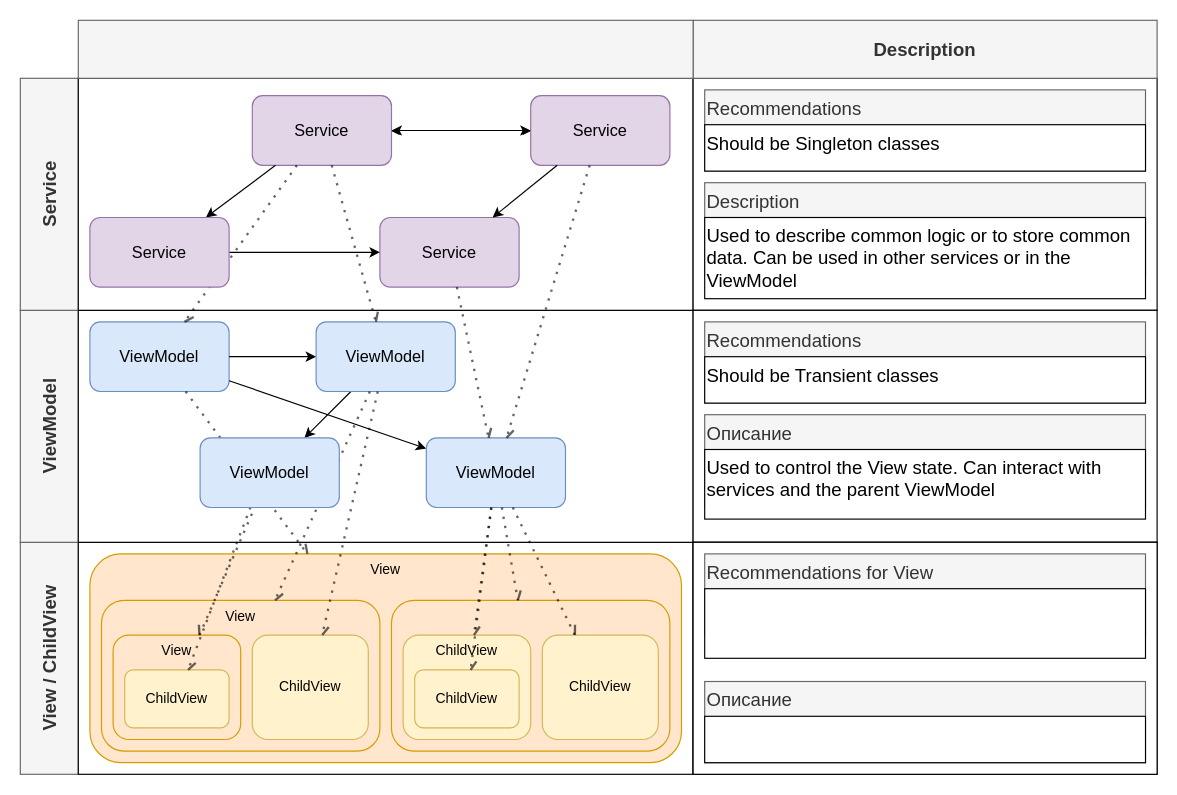
This 1177x795 diagram has some shape labels left out. Each missing label, with the box of its shape:
Interaction with other entities: (77, 19, 693, 78)
Must tell their ViewModel which ViewModel is the parent; must pass the prop.: (704, 588, 1146, 658)
Used exclusively for displaying: (704, 715, 1146, 763)
View4: (390, 599, 670, 751)
